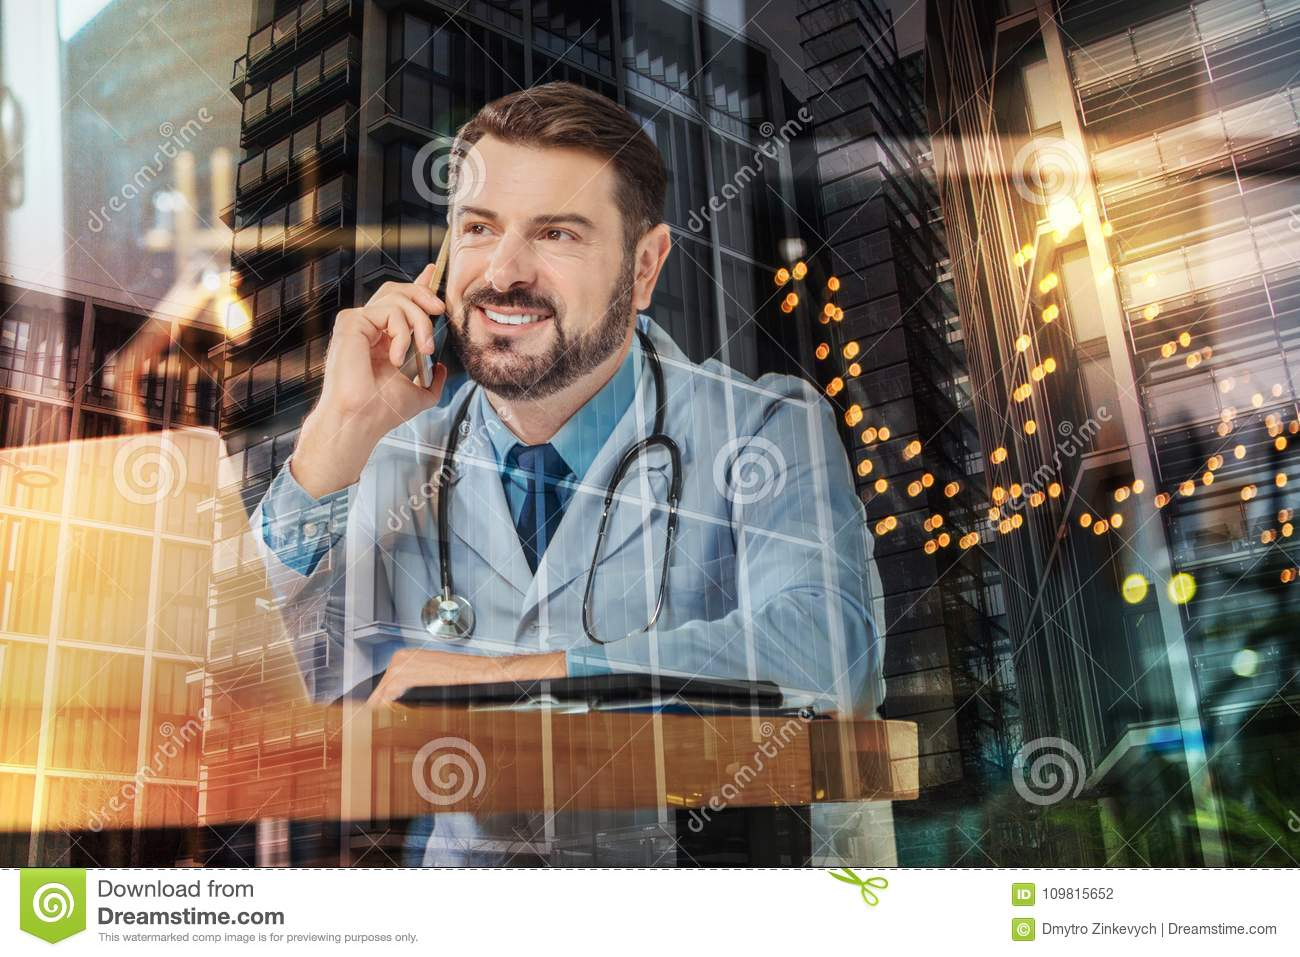phone: (414, 218, 457, 398)
talk: (315, 197, 601, 466)
